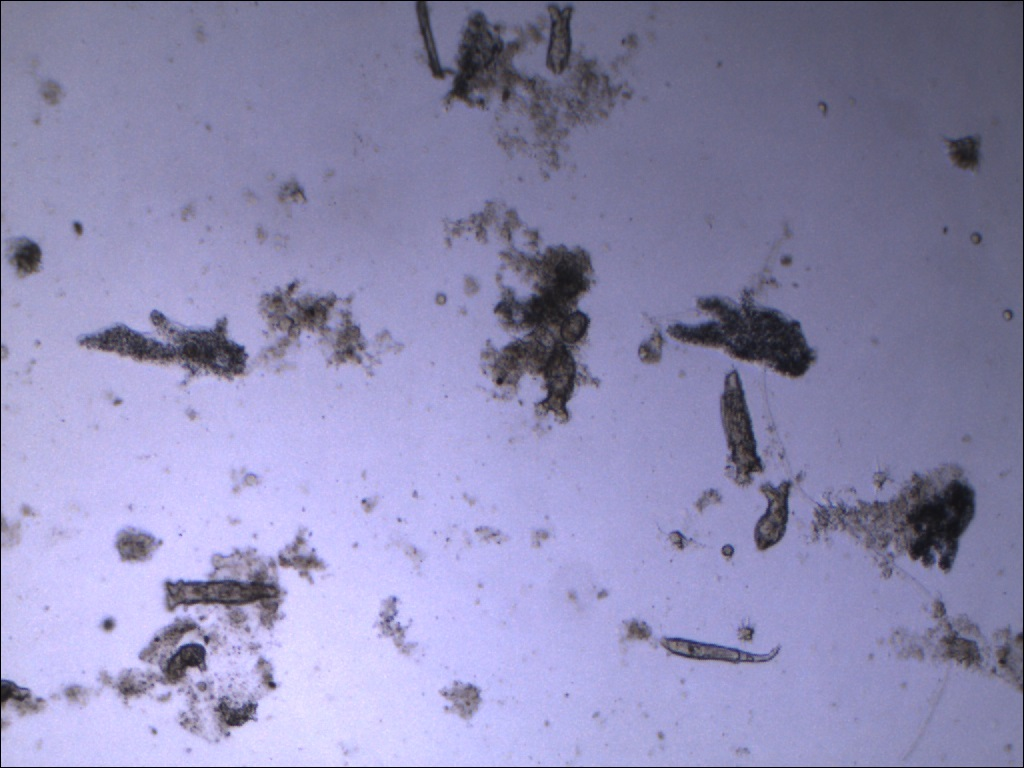amoeba: (662, 280, 820, 381), (69, 306, 257, 388), (901, 474, 985, 578)
